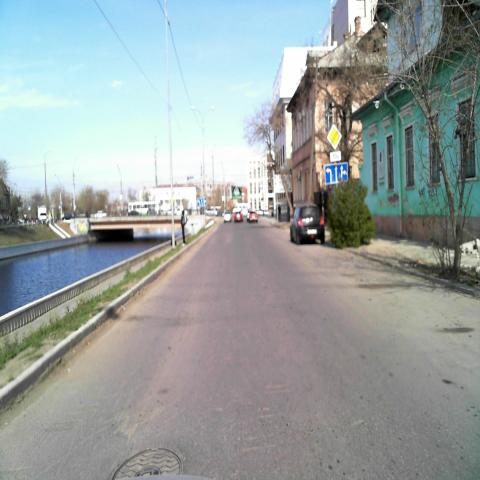2_2: (327, 124, 342, 150)
5_15_1: (326, 165, 348, 185), (198, 197, 208, 208)
